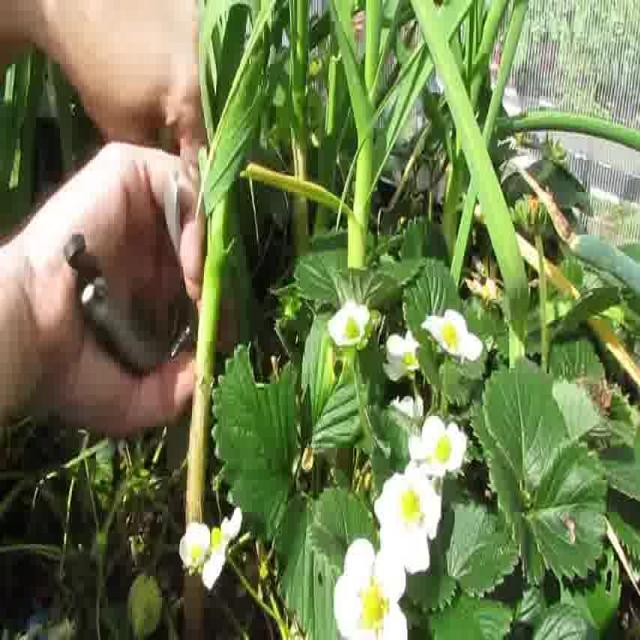Fruta sana: (127, 573, 162, 640)
